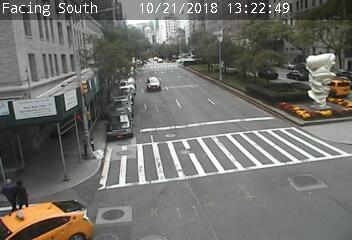car: (147, 76, 161, 89)
